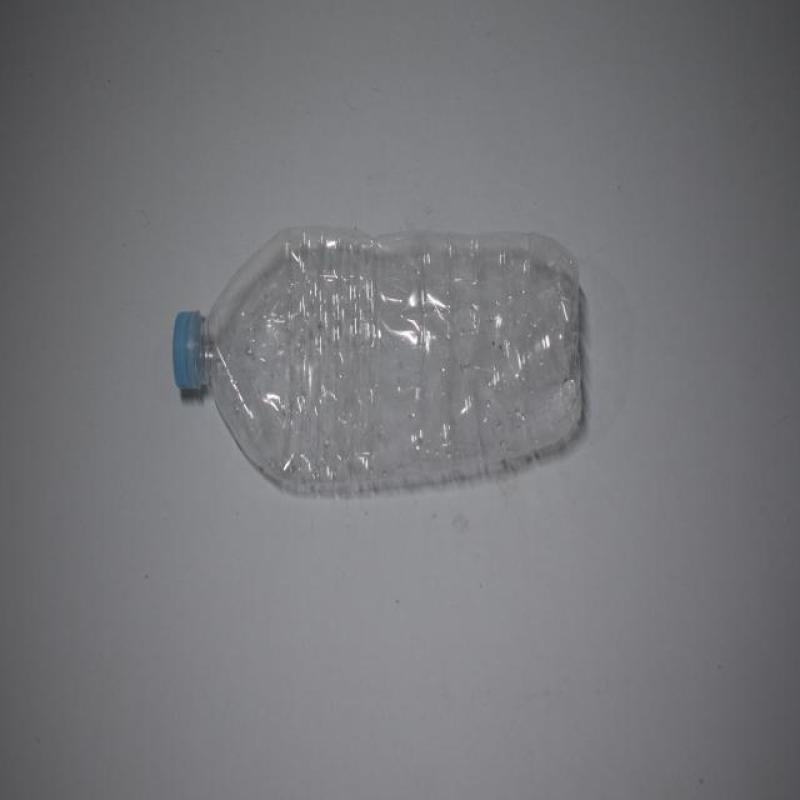botella: (173, 225, 587, 491)
